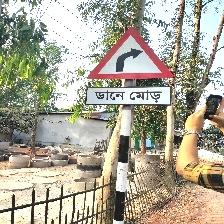Right-turn: (86, 27, 175, 109)
